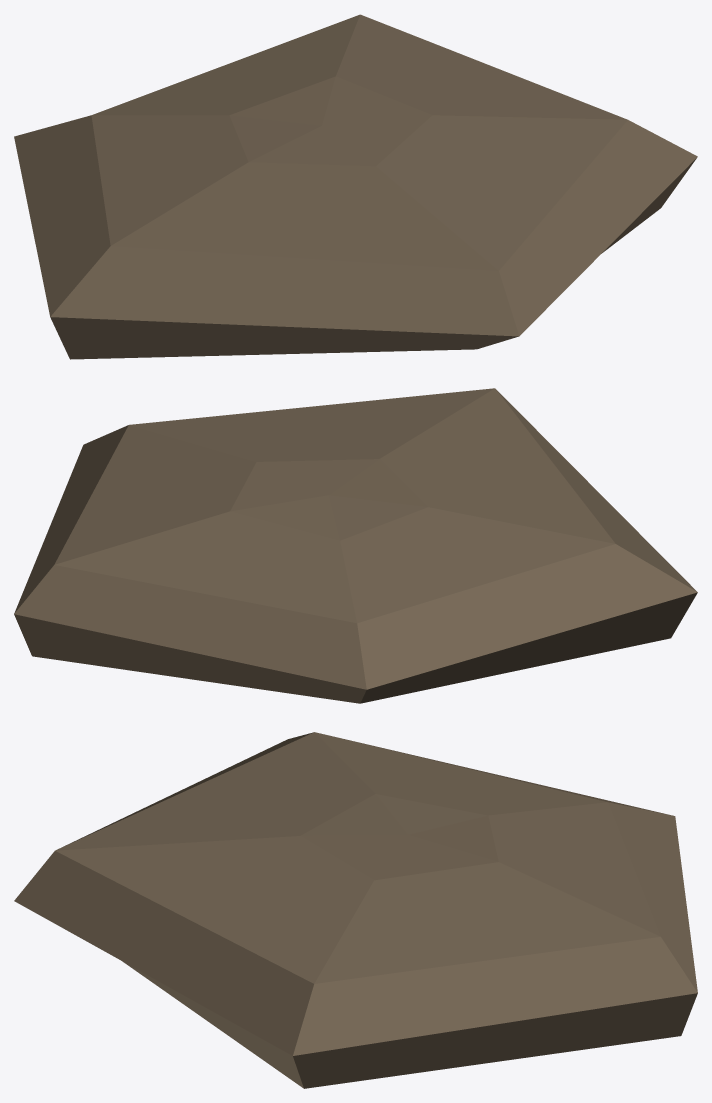
Rendered from groundRock.glb.
3 renders of one model, top to bottom at view 1: azimuth 30°, elevation 25°; view 2: azimuth 150°, elevation 25°; view 3: azimuth 270°, elevation 25°, orthographic. The views are drawn at different scales.
Visible parts, largest first — view 1: GroundRock; view 2: GroundRock; view 3: GroundRock.
Boxes of the visible parts, <box> form: GroundRock: <box>14,14,697,359</box>; GroundRock: <box>14,388,697,703</box>; GroundRock: <box>14,732,697,1088</box>.
Size of the model in its own units: 1.67 by 0.3619 by 1.53.
